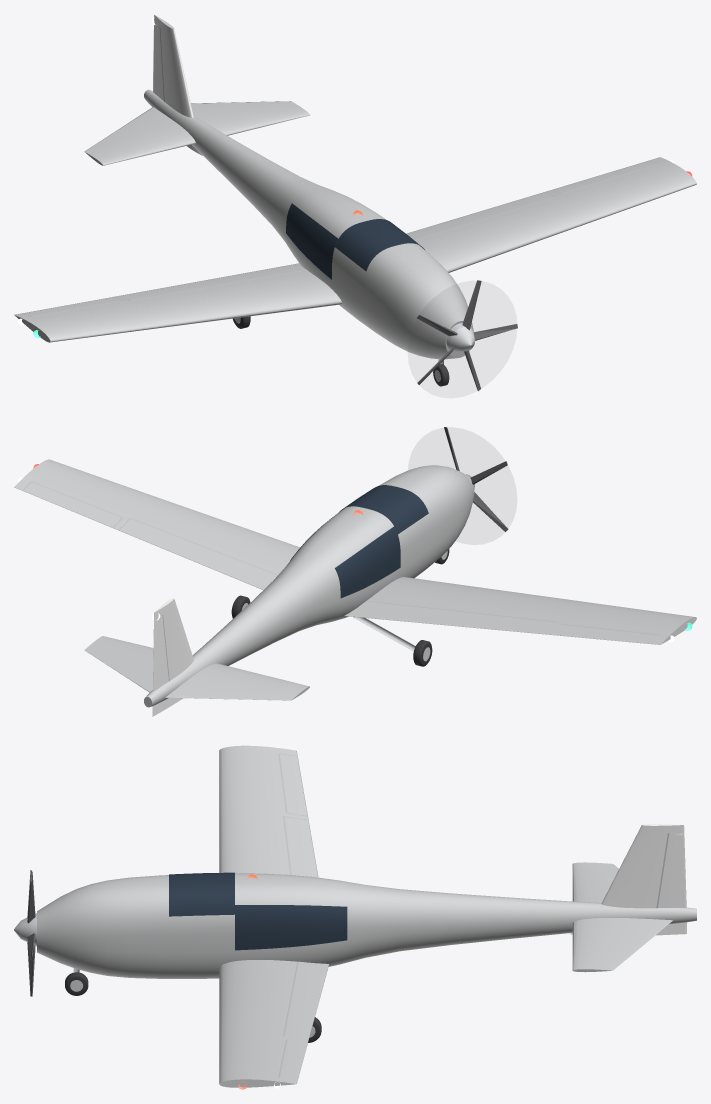
File: TBM9.glb
3 renders of one model, top to bottom at view 1: azimuth 30°, elevation 25°; view 2: azimuth 150°, elevation 25°; view 3: azimuth 270°, elevation 25°, orthographic. The views are drawn at different scales.
Parts seen in each view (by area): view 1: airframe, prop; view 2: airframe, gear, prop; view 3: airframe, gear, prop.
Part boxes in pixels (<box>): airframe: <box>14,14,696,359</box>; prop: <box>417,280,517,391</box>; airframe: <box>14,459,696,716</box>; gear: <box>231,549,449,666</box>; prop: <box>444,427,508,531</box>; airframe: <box>14,745,696,1089</box>; gear: <box>65,968,321,1042</box>; prop: <box>27,870,35,996</box>.
Size of the model in its own units: 13.02 by 3.04 by 11.07.
